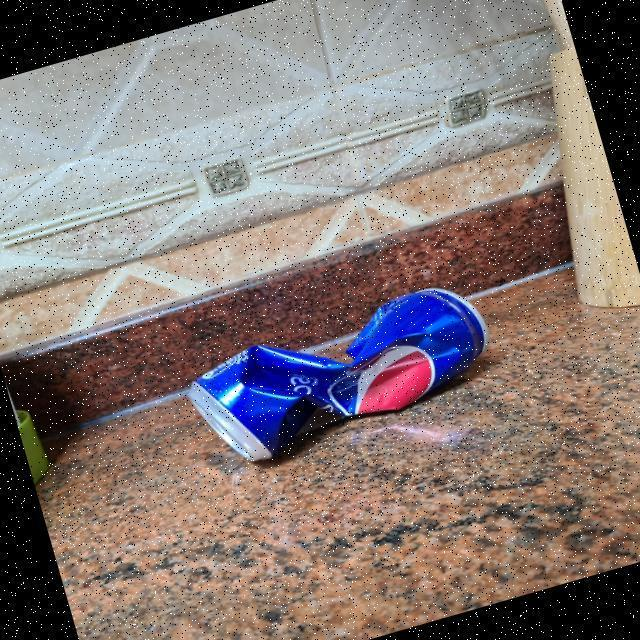can: (165, 270, 512, 478)
